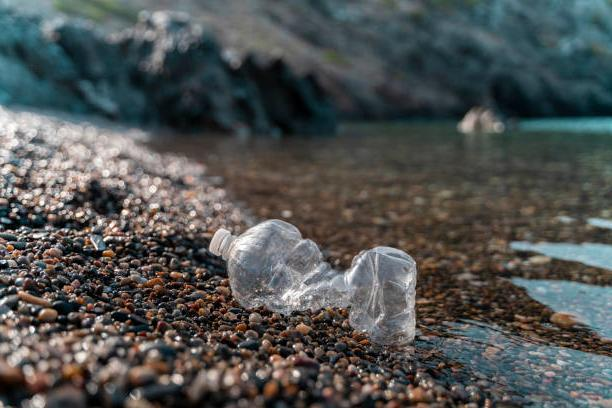Plastic: (205, 220, 414, 350)
